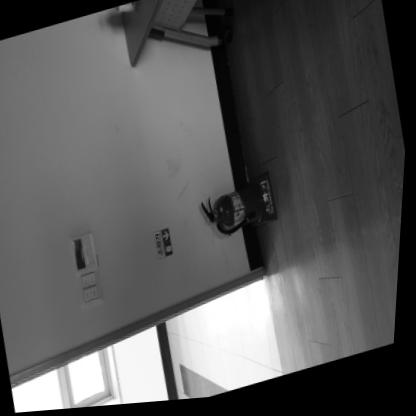FE: (199, 176, 282, 243)
